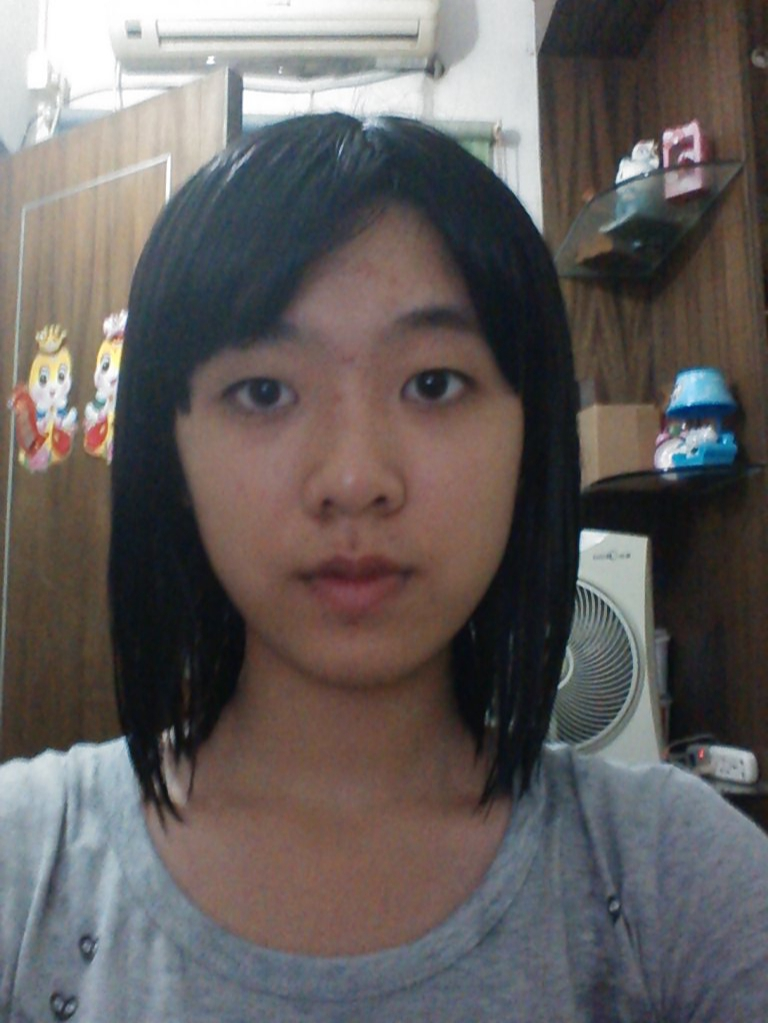unmask: (183, 268, 509, 655)
